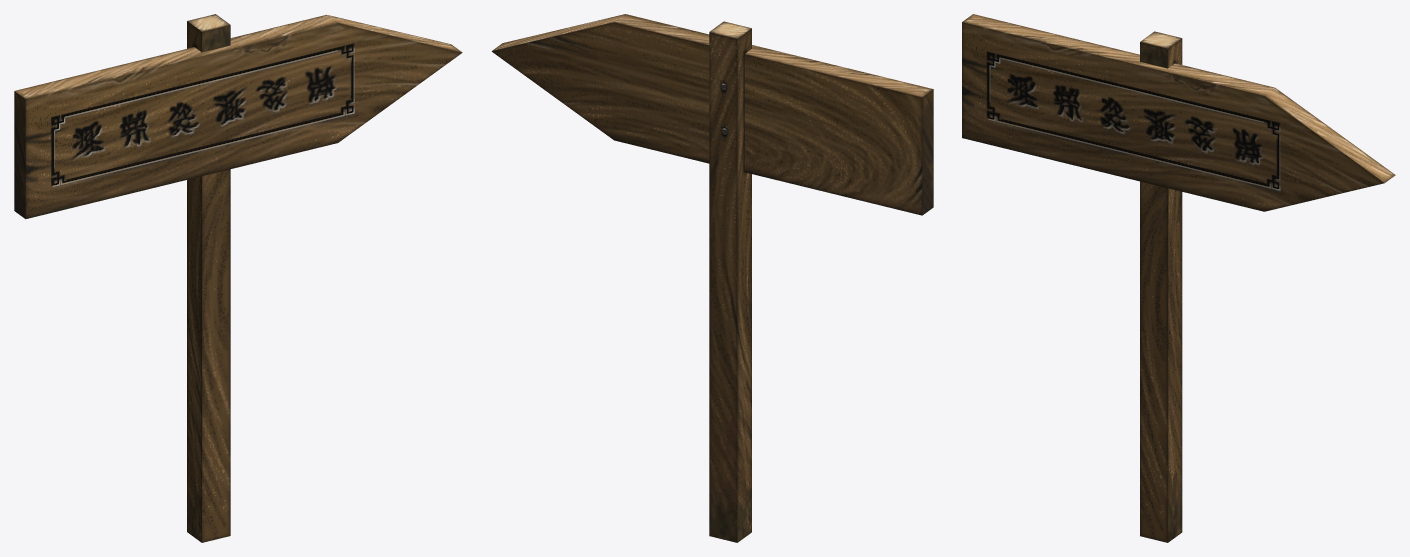
File: sign.fbx
3 views of the same model, side by side, from view 1: azimuth 30°, elevation 25°; view 2: azimuth 150°, elevation 25°; view 3: azimuth 330°, elevation 25° (orthographic). The views are drawn at different scales.
Parts seen in each view (by area): view 1: sign01; view 2: sign01; view 3: sign01.
Part boxes in pixels (<box>): sign01: <box>14,14,462,542</box>; sign01: <box>491,14,933,542</box>; sign01: <box>962,14,1395,542</box>.
Bounding box in the file's own units: 1.36 × 1.51 × 0.1006.
